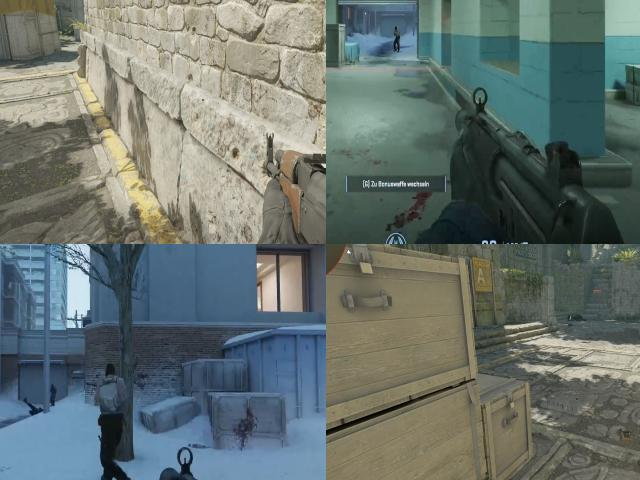Bomb: (612, 420, 636, 448), (0, 177, 12, 211)
CT: (46, 382, 59, 406)
CT-Head: (50, 383, 56, 391)
Dead: (568, 311, 588, 325)
T: (88, 368, 134, 440), (389, 21, 404, 56)
T-Head: (102, 363, 120, 387), (393, 25, 399, 34)
